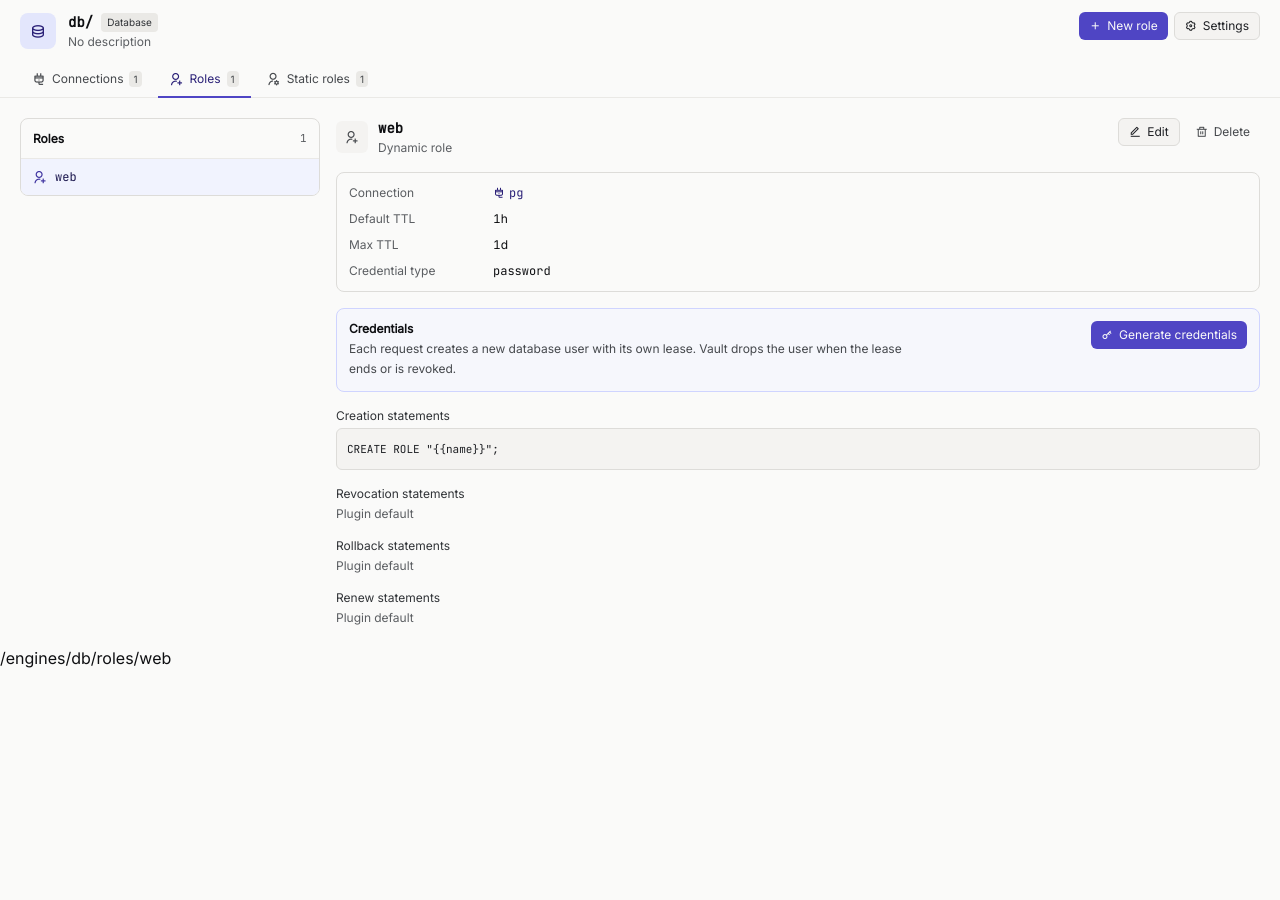
Test: DatabaseEnginePage roles › generates masked credentials, renews and revokes the lease, and keeps them out of the query cache
The image size is (1280, 900).
Check: the heading "web" is shown, box x1=378 y1=119 x2=403 y2=137
Check: the text "Each request creates a new database user" is shown, box x1=349 y1=341 x2=902 y2=376
Click the button "Generate credentials" at (1169, 335), box x1=1091 y1=321 x2=1247 y2=349
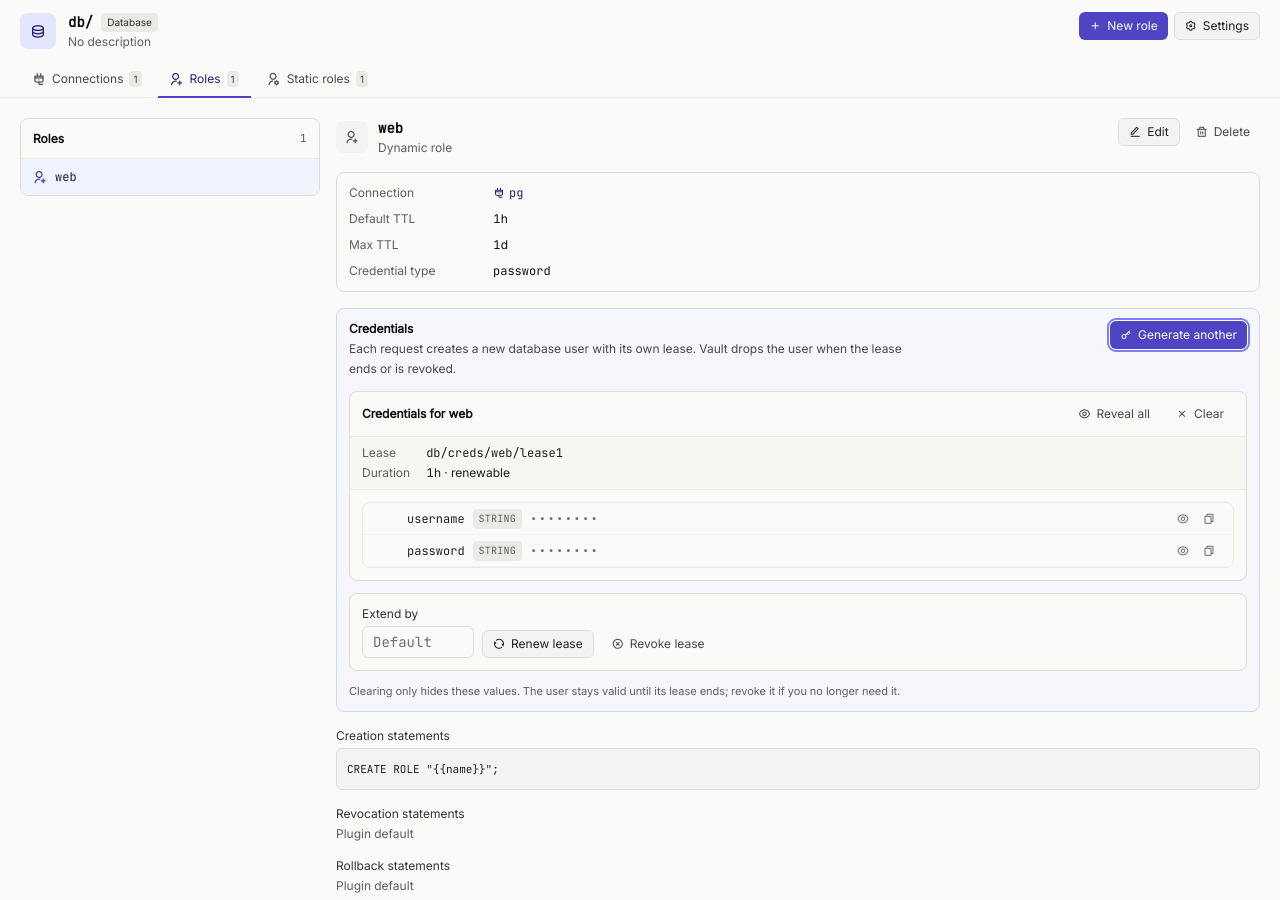
Check: the text "db/creds/web/lease1" is shown, box x1=426 y1=445 x2=563 y2=461
Type "2h" into the field labelled "Extend by" at (418, 642), box x1=362 y1=626 x2=474 y2=658
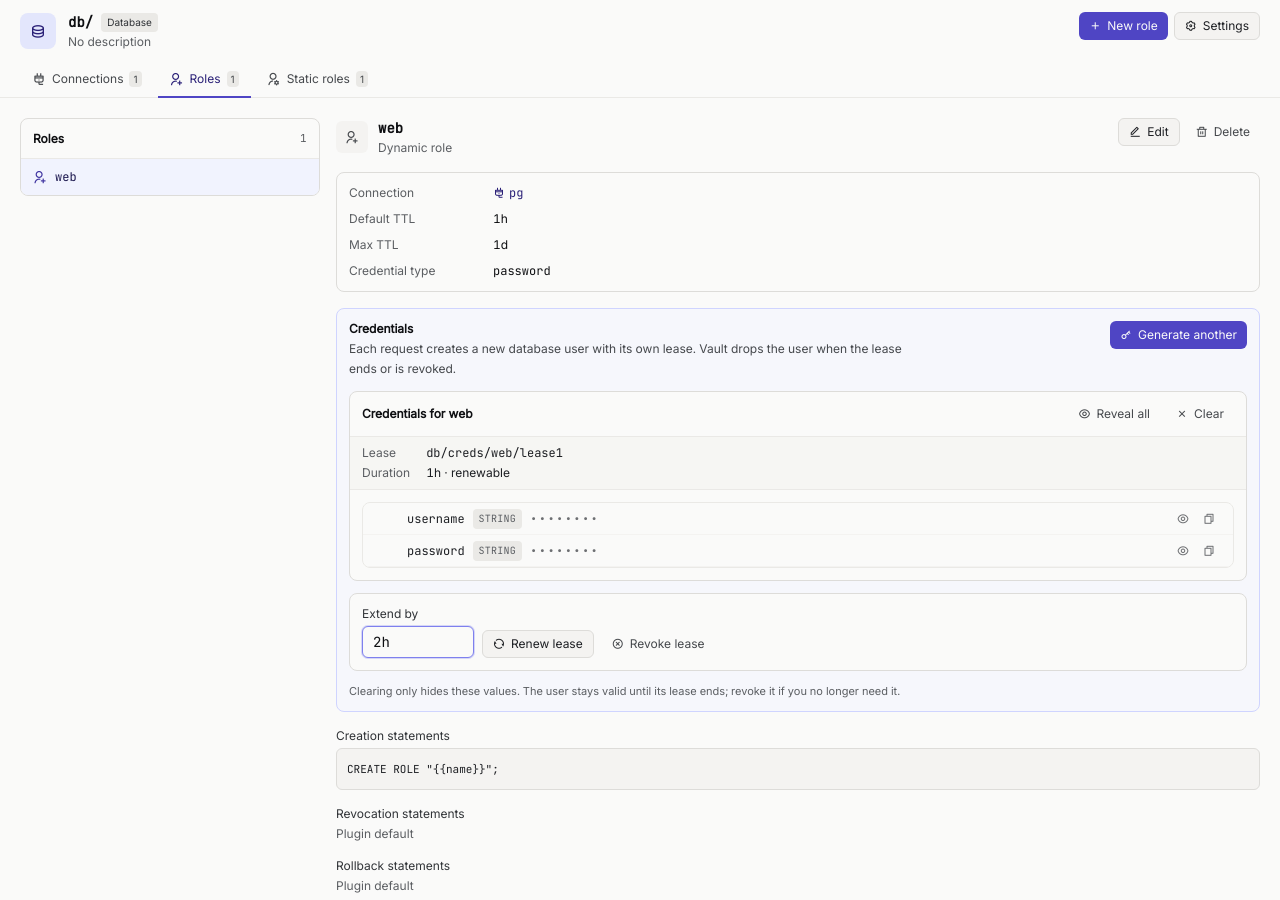
Click the button "Renew lease" at (538, 644), box x1=482 y1=630 x2=594 y2=658
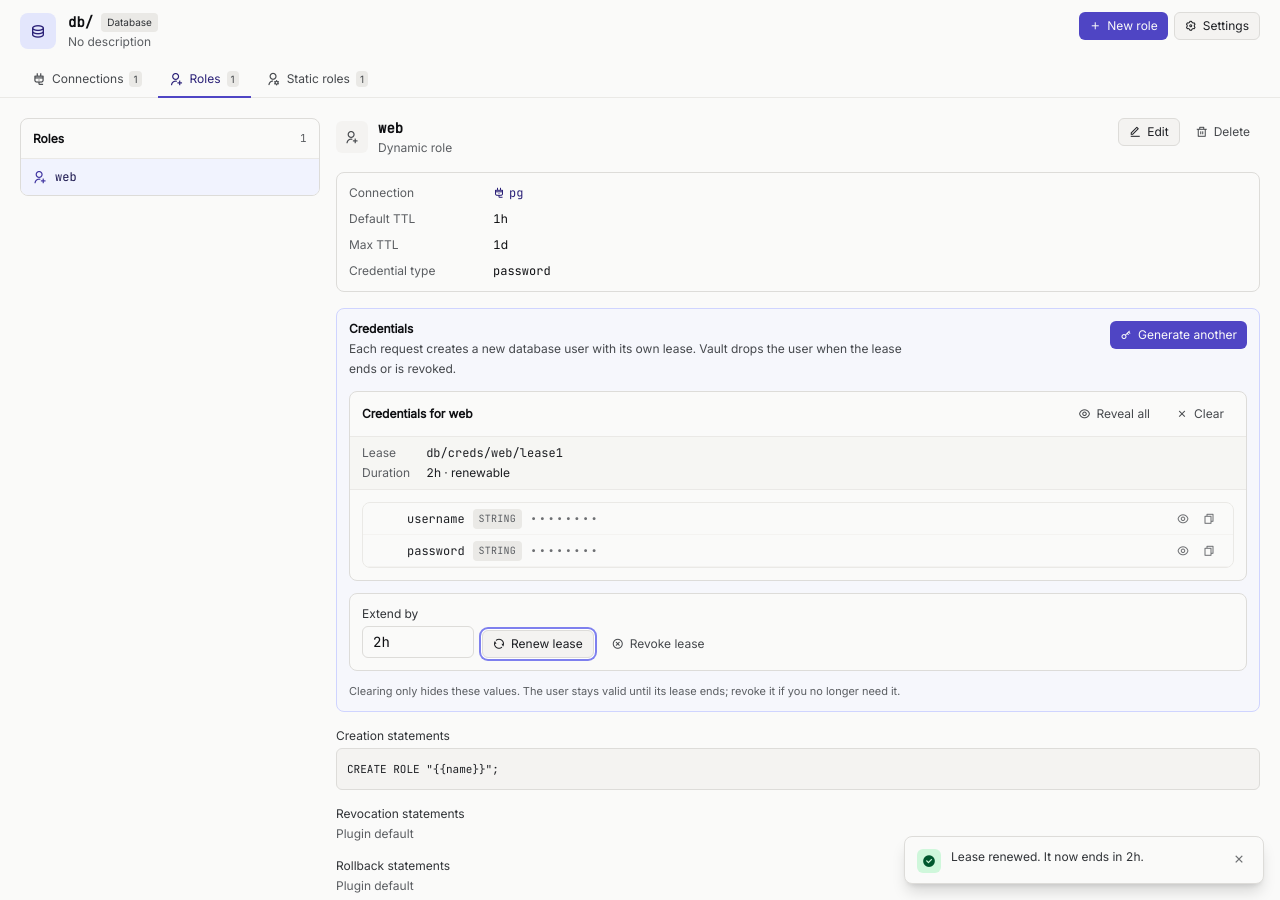
Check: the text "2h · renewable" is shown, box x1=426 y1=465 x2=510 y2=480
Click the button "Revoke lease" at (658, 644), box x1=602 y1=630 x2=714 y2=658
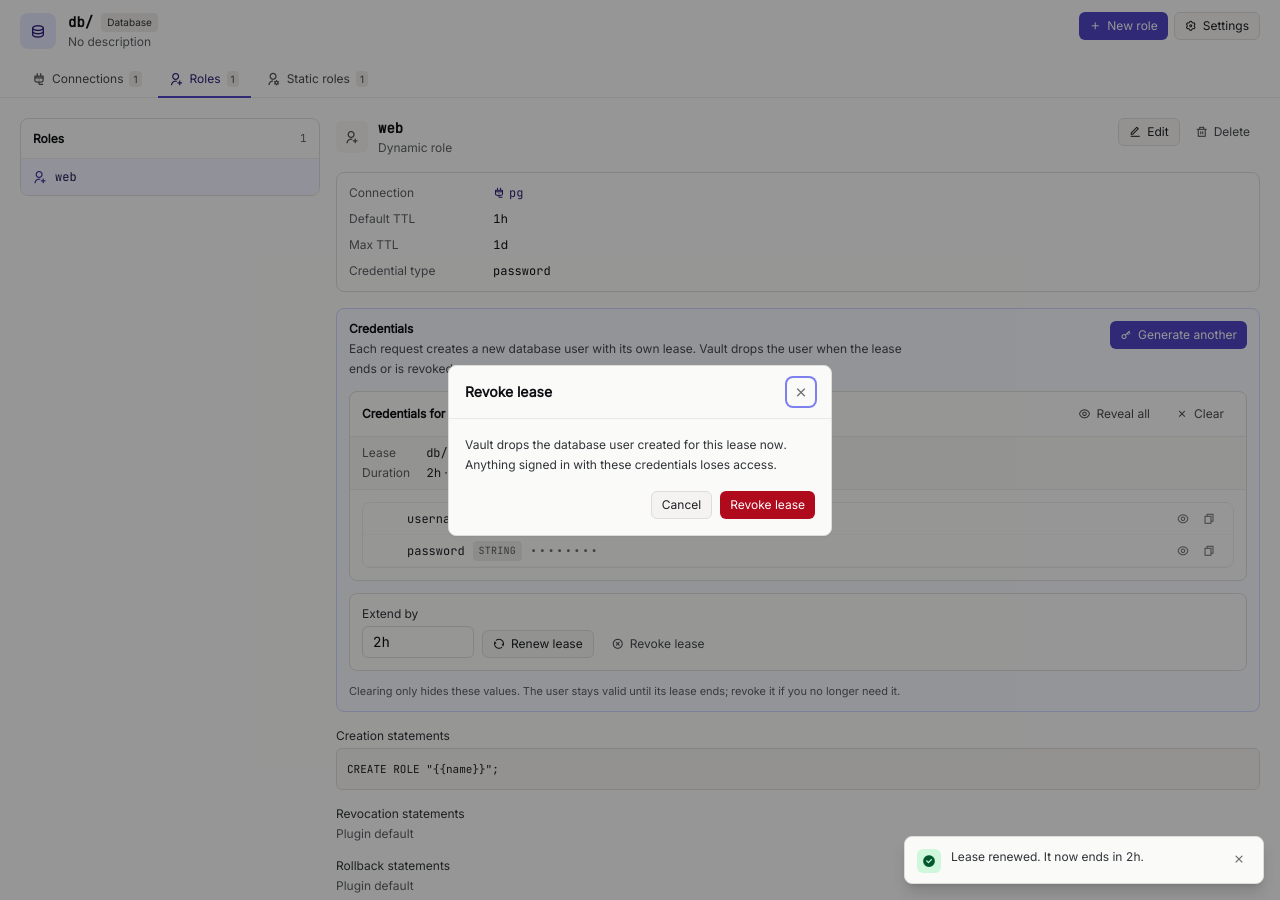
Click the 1st button "Revoke lease" at (768, 504), box x1=720 y1=490 x2=815 y2=518
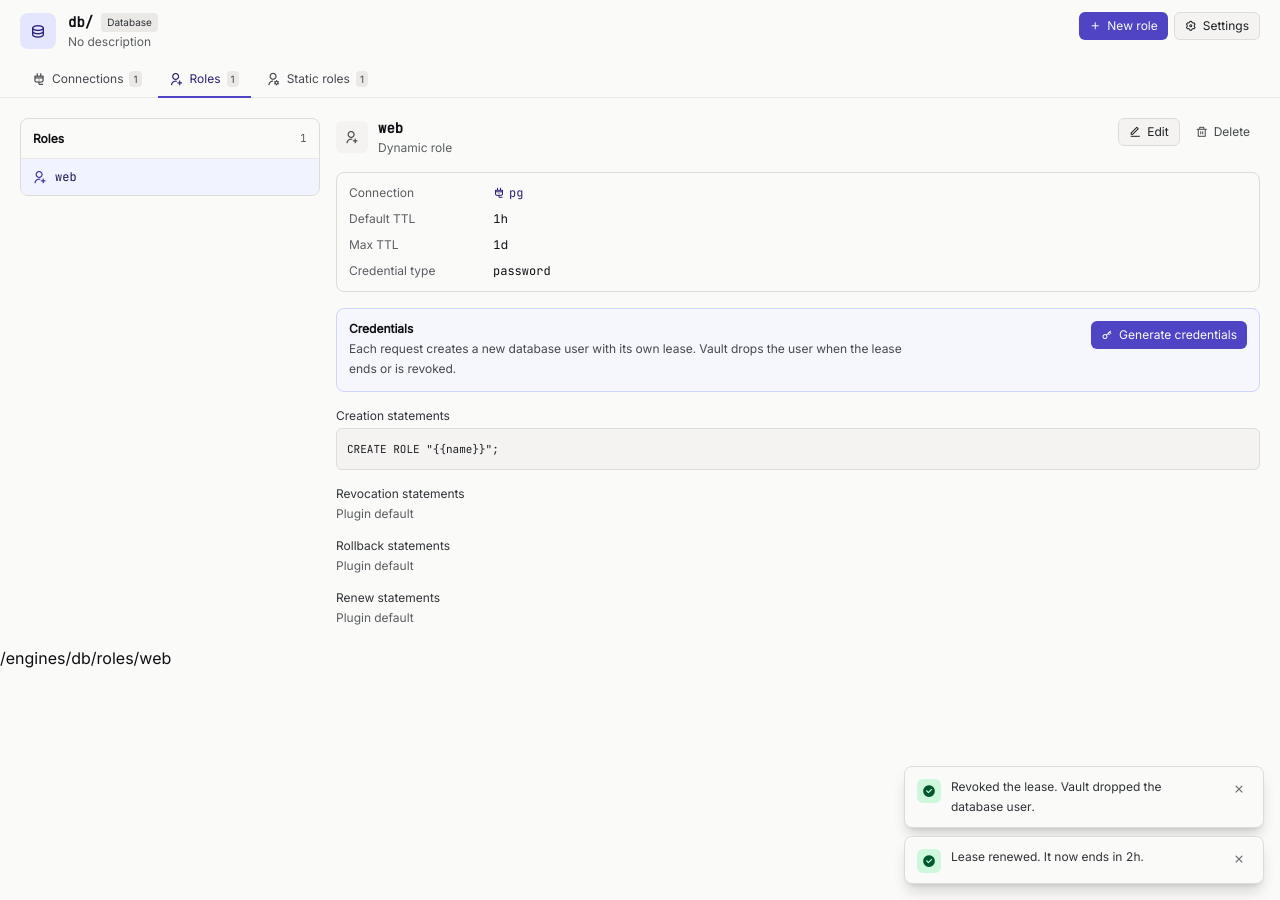
Check: the heading "Credentials for web" is gone
